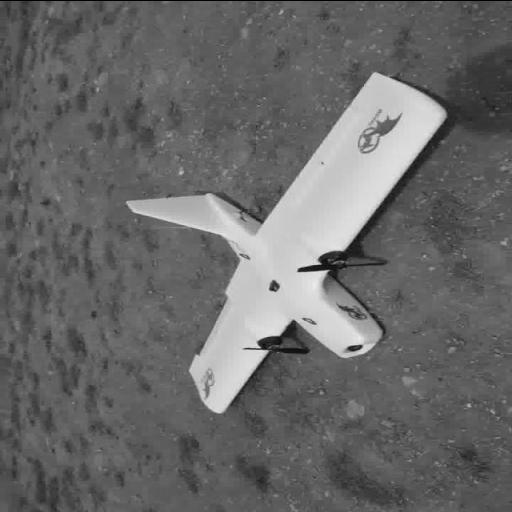uav: (120, 70, 454, 414)
